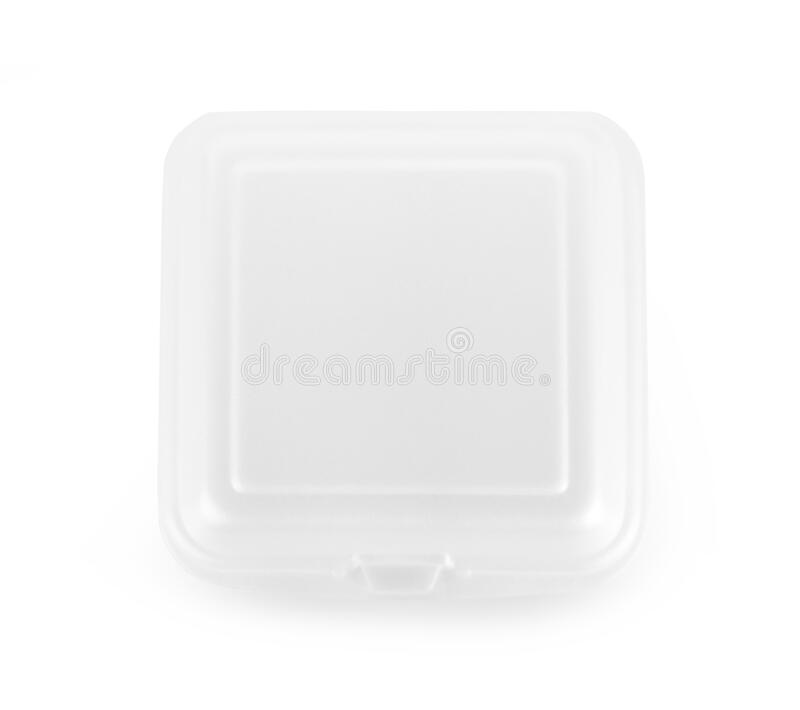Foam Box: (153, 100, 659, 615)
